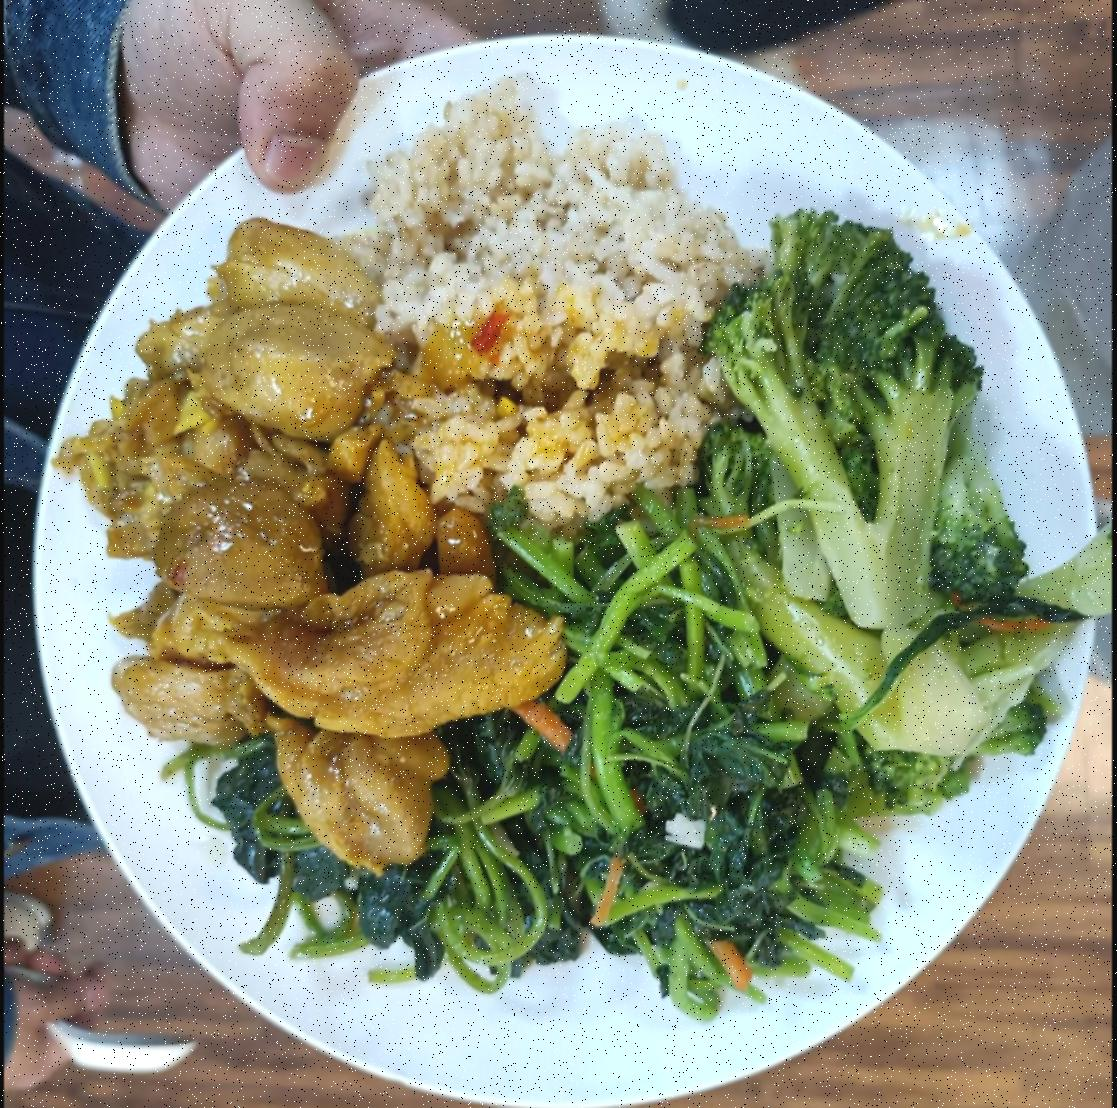brown rice: (365, 127, 722, 505)
curry chicken: (89, 252, 522, 789)
plate: (27, 21, 1093, 1097)
side dish: (697, 217, 1050, 771), (580, 536, 789, 994), (235, 734, 575, 945)
